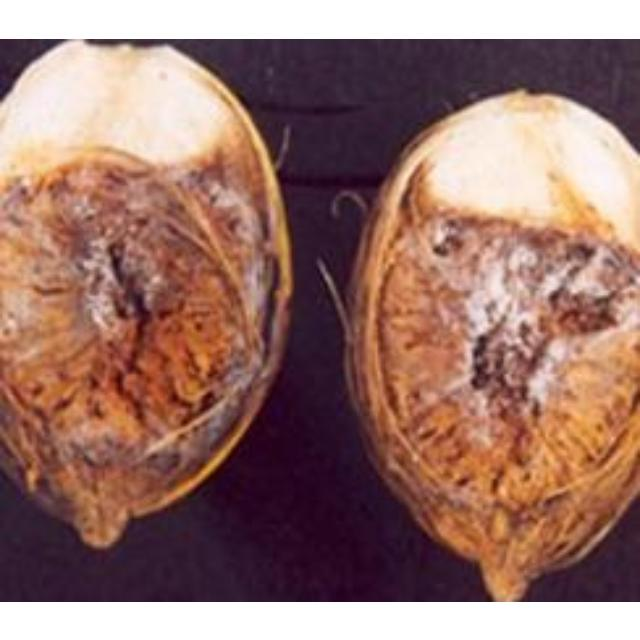damaged: (346, 88, 637, 599), (0, 41, 291, 544)
